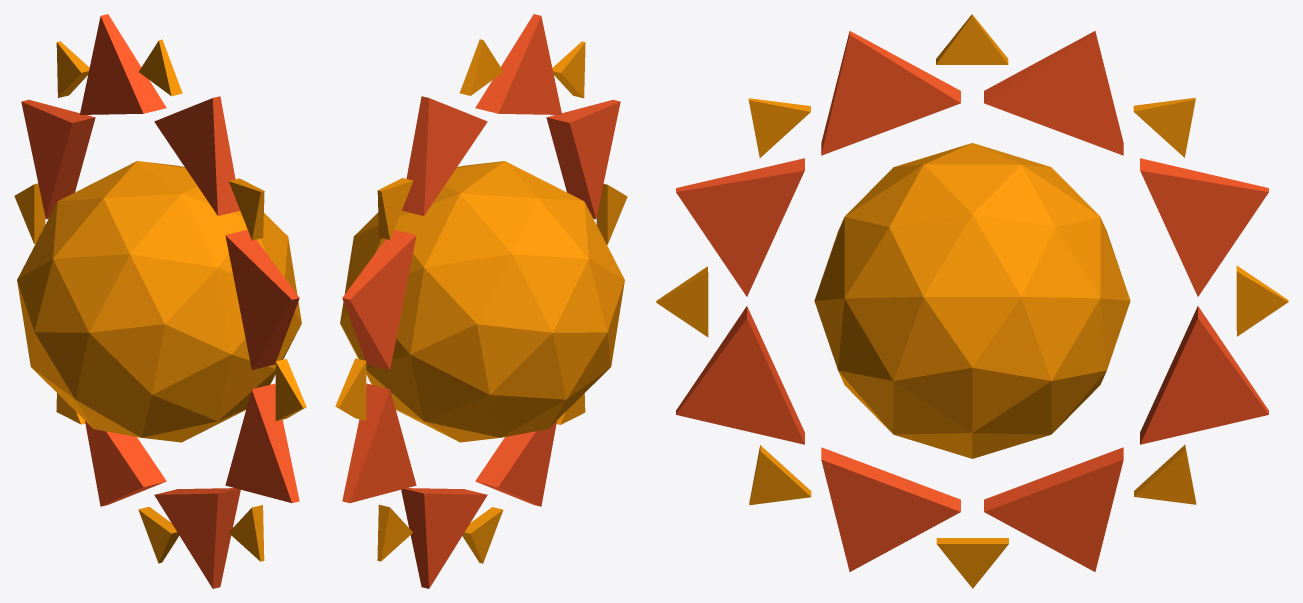
File: sun_02.obj
The picture shows the model from 3 angles, left to right: view 1: azimuth 30°, elevation 25°; view 2: azimuth 150°, elevation 25°; view 3: azimuth 270°, elevation 25°; orthographic projection. The views are drawn at different scales.
Visible parts, largest first — view 1: sun_01_Sphere; view 2: sun_01_Sphere; view 3: sun_01_Sphere.
Boxes of the visible parts, <box> form: sun_01_Sphere: <box>14,14,306,588</box>; sun_01_Sphere: <box>335,14,627,588</box>; sun_01_Sphere: <box>656,14,1288,588</box>.
Bounding box in the file's own units: 106 × 212 × 212.
